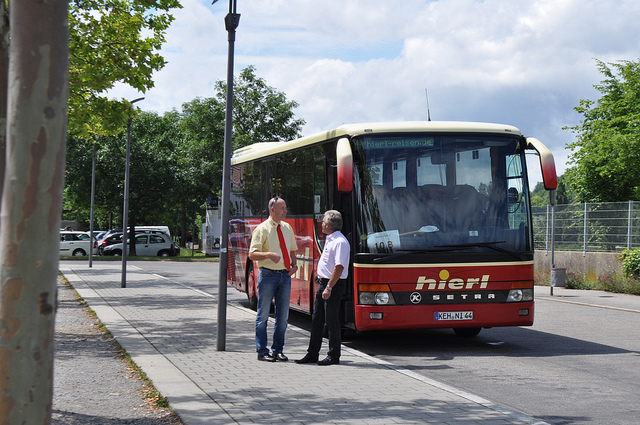Bus: (227, 120, 549, 339)
Person: (247, 195, 295, 363), (313, 210, 353, 359)
